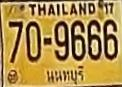0: (25, 20, 40, 61)
6: (70, 20, 85, 60), (103, 18, 117, 60), (87, 20, 101, 60)
7: (8, 21, 22, 63)
9: (54, 20, 68, 60)
NBI: (44, 64, 86, 85)
